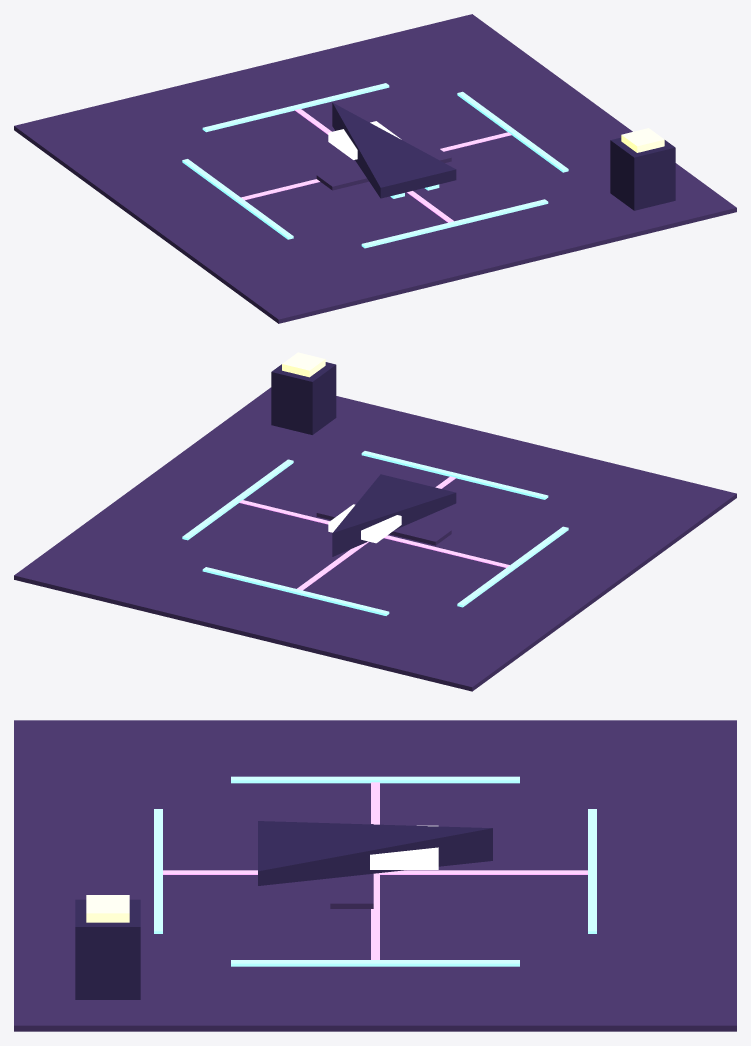
Rendered from 12_glidebooster_landing_pad.glb.
3 renders of one model, top to bottom at view 1: azimuth 30°, elevation 25°; view 2: azimuth 150°, elevation 25°; view 3: azimuth 270°, elevation 25°, orthographic. The views are drawn at different scales.
Visible parts, largest first — view 1: pad_0, glider_hull_7, service_pillar_13, rim_6, rim_5, glider_wing_9, rim_3, rim_4, beacon_14, mark_h_1, glider_cockpit_8, mark_v_2; view 2: pad_0, glider_hull_7, service_pillar_13, glider_wing_9, rim_5, rim_6, mark_h_1, rim_3, rim_4, glider_cockpit_8, beacon_14; view 3: pad_0, glider_hull_7, service_pillar_13, rim_3, rim_4, mark_v_2, glider_wing_9, glider_cockpit_8, beacon_14, rim_5, rim_6, mark_h_1.
Part boxes in pixels (x1,y1,x2,y2): pad_0: (14,14,736,323); glider_hull_7: (332,102,456,198); service_pillar_13: (610,137,675,210); rim_6: (361,199,548,248); rim_5: (202,83,389,132); glider_wing_9: (316,146,451,190); rim_3: (182,159,293,239); rim_4: (457,91,568,172); beacon_14: (621,128,664,152); mark_h_1: (241,132,511,200); glider_cockpit_8: (328,121,401,159); mark_v_2: (295,108,453,222); pad_0: (14,387,736,691); glider_hull_7: (332,474,456,556); service_pillar_13: (271,362,336,434); glider_wing_9: (316,501,451,545); rim_5: (202,567,389,615); rim_6: (361,451,548,499); mark_h_1: (239,500,509,567); rim_3: (457,526,568,607); rim_4: (182,459,293,540); glider_cockpit_8: (328,504,401,543); beacon_14: (282,352,325,377); pad_0: (14,720,736,1031); glider_hull_7: (258,821,492,885); service_pillar_13: (75,899,140,999); rim_3: (231,776,519,783); rim_4: (231,960,519,966); mark_v_2: (163,870,587,874); glider_wing_9: (330,824,373,908); glider_cockpit_8: (370,825,438,869); beacon_14: (86,895,129,922); rim_5: (588,809,596,933); rim_6: (154,809,162,933); mark_h_1: (371,782,379,959).
Bounding box in the file's own units: 20 × 2.68 × 20.
